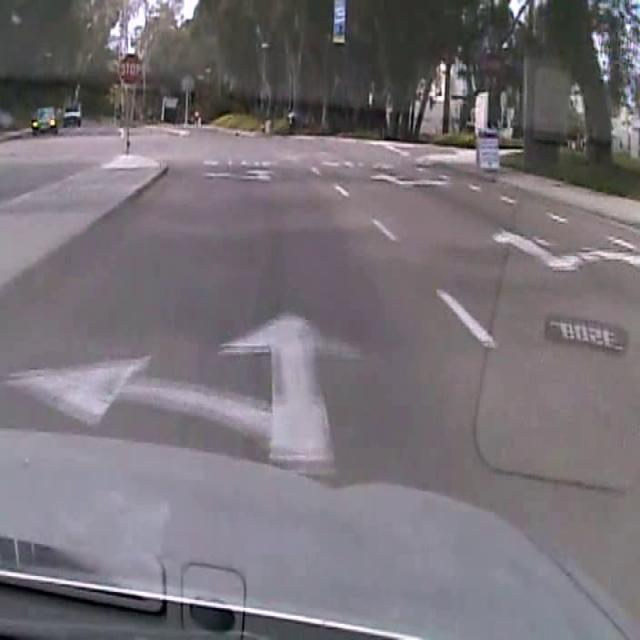stop_sign: (119, 51, 143, 84), (481, 49, 504, 79)
